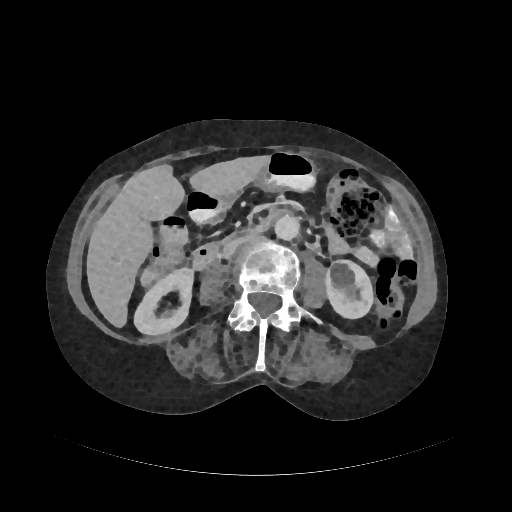Lesion: (328, 261, 358, 290)
